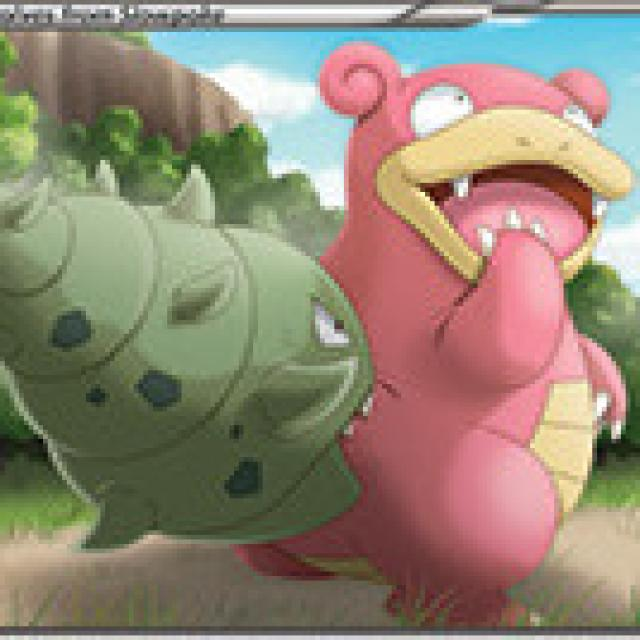Slowbro: (154, 55, 629, 565)
